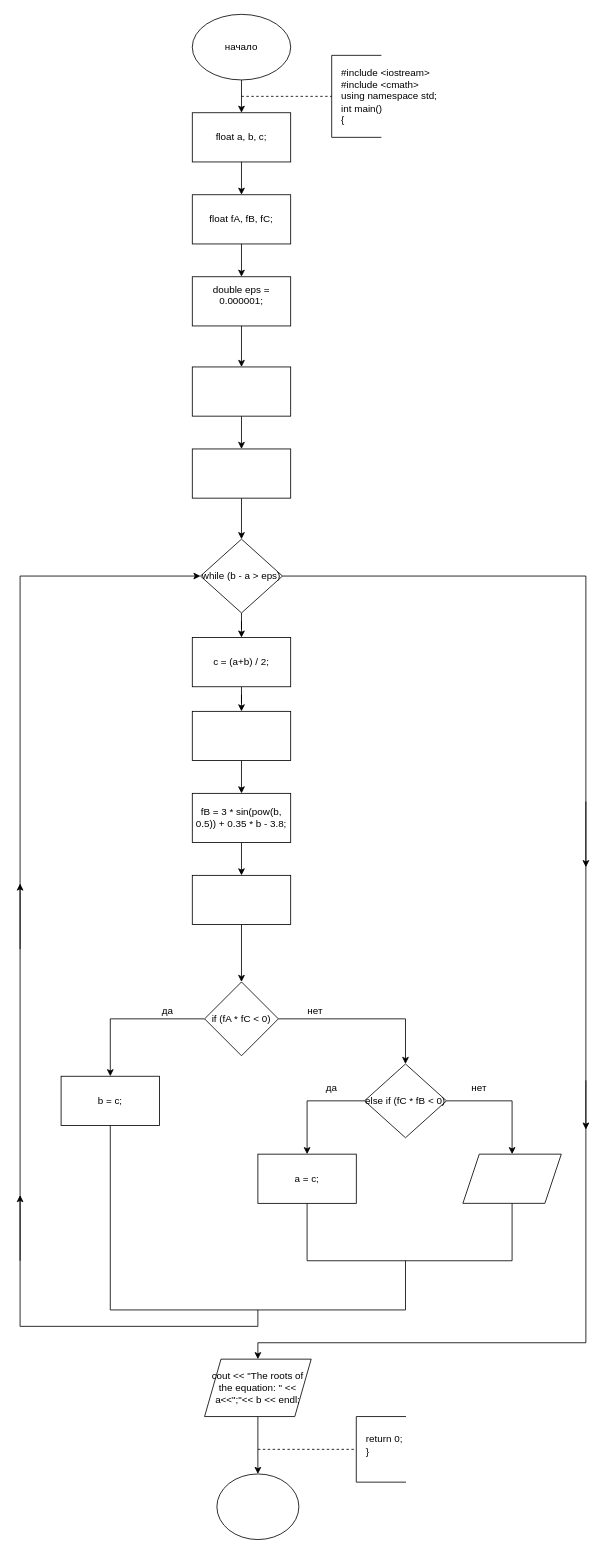
Some shapes in this 607 by 1554 pixel diagram are drawn without their labels. Here are the shapes that lost their labels. From the top down, the centre of each, then its label:
point (241, 391): a = 2;
point (241, 473): b = 3;
point (241, 736): fA = 3 * sin(pow(a, 0.5)) + 0.35 * a - 3.8;
point (241, 900): fC = 3 * sin(pow(c, 0.5)) + 0.35 * c - 3.8;
point (511, 1178): { cout << "ERROR!" << endl; }
point (257, 1506): конец
